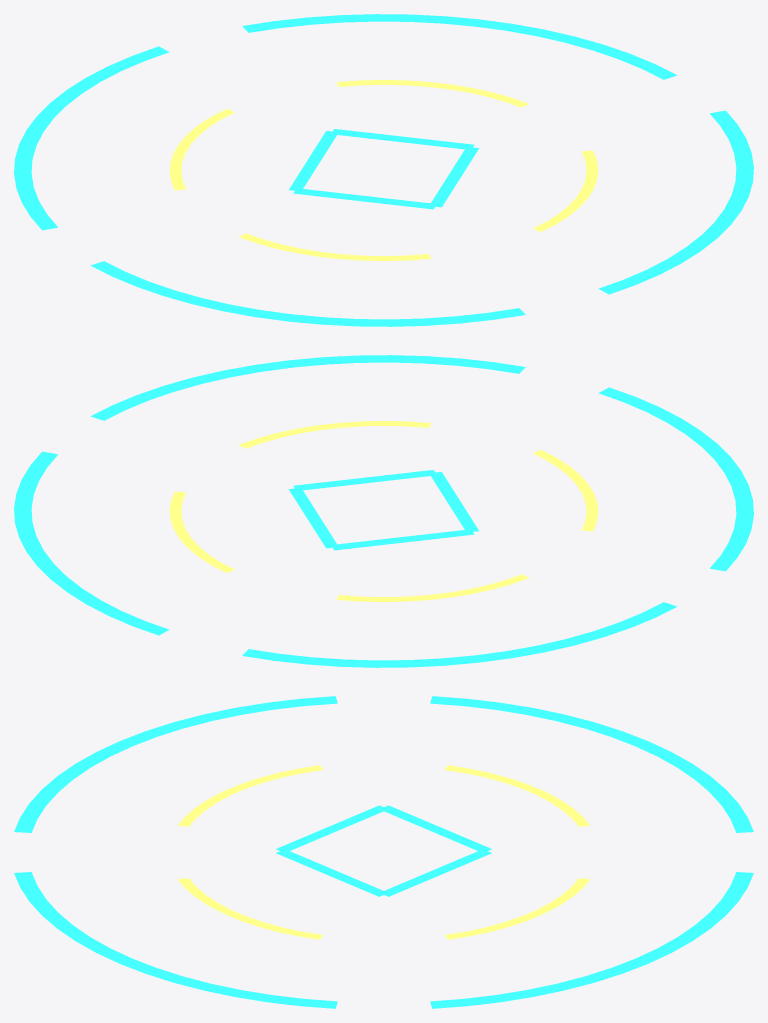
File: intro-floor-glyph.glb
3 renders of one model, top to bottom at view 1: azimuth 30°, elevation 25°; view 2: azimuth 150°, elevation 25°; view 3: azimuth 270°, elevation 25°, orthographic.
Parts seen in each view (by area): view 1: Intro_GlyphArc_0, Intro_GlyphArc_2, Intro_GlyphArc_1, Intro_GlyphArc_3, Intro_GlyphInner_0, Intro_GlyphInner_2, Intro_GlyphInner_1, Intro_GlyphInner_3, Intro_GlyphDiamond_2, Intro_GlyphDiamond_0, Intro_GlyphDiamond_1, Intro_GlyphDiamond_3; view 2: Intro_GlyphArc_1, Intro_GlyphArc_3, Intro_GlyphArc_0, Intro_GlyphArc_2, Intro_GlyphInner_1, Intro_GlyphInner_3, Intro_GlyphInner_0, Intro_GlyphInner_2, Intro_GlyphDiamond_3, Intro_GlyphDiamond_1, Intro_GlyphDiamond_2, Intro_GlyphDiamond_0; view 3: Intro_GlyphArc_0, Intro_GlyphArc_1, Intro_GlyphArc_2, Intro_GlyphArc_3, Intro_GlyphInner_0, Intro_GlyphInner_1, Intro_GlyphInner_2, Intro_GlyphInner_3, Intro_GlyphDiamond_0, Intro_GlyphDiamond_1, Intro_GlyphDiamond_2, Intro_GlyphDiamond_3.
Part boxes in pixels (box(x1,y1,x2,y2)): Intro_GlyphArc_0: box(242, 14, 677, 79); Intro_GlyphArc_2: box(90, 261, 525, 326); Intro_GlyphArc_1: box(14, 46, 169, 230); Intro_GlyphArc_3: box(598, 110, 753, 294); Intro_GlyphInner_0: box(336, 80, 528, 107); Intro_GlyphInner_2: box(239, 233, 431, 260); Intro_GlyphInner_1: box(169, 109, 234, 190); Intro_GlyphInner_3: box(533, 150, 598, 231); Intro_GlyphDiamond_2: box(293, 188, 434, 209); Intro_GlyphDiamond_0: box(331, 129, 474, 149); Intro_GlyphDiamond_1: box(429, 146, 479, 207); Intro_GlyphDiamond_3: box(289, 131, 336, 190); Intro_GlyphArc_1: box(242, 602, 677, 667); Intro_GlyphArc_3: box(90, 355, 525, 420); Intro_GlyphArc_0: box(14, 451, 169, 635); Intro_GlyphArc_2: box(598, 387, 753, 571); Intro_GlyphInner_1: box(336, 574, 528, 601); Intro_GlyphInner_3: box(239, 421, 431, 448); Intro_GlyphInner_0: box(169, 491, 234, 572); Intro_GlyphInner_2: box(533, 450, 598, 531); Intro_GlyphDiamond_3: box(333, 530, 474, 550); Intro_GlyphDiamond_1: box(293, 470, 434, 490); Intro_GlyphDiamond_2: box(429, 472, 478, 532); Intro_GlyphDiamond_0: box(288, 487, 338, 548); Intro_GlyphArc_0: box(430, 872, 753, 1008); Intro_GlyphArc_1: box(430, 696, 753, 832); Intro_GlyphArc_2: box(14, 696, 337, 832); Intro_GlyphArc_3: box(14, 872, 337, 1008); Intro_GlyphInner_0: box(444, 878, 590, 939); Intro_GlyphInner_1: box(444, 765, 590, 826); Intro_GlyphInner_2: box(177, 765, 323, 826); Intro_GlyphInner_3: box(177, 878, 323, 939); Intro_GlyphDiamond_0: box(380, 849, 491, 896); Intro_GlyphDiamond_1: box(276, 849, 386, 896); Intro_GlyphDiamond_2: box(276, 805, 387, 850); Intro_GlyphDiamond_3: box(383, 805, 491, 850).
Size of the model in its own units: 2.5 by 0.005 by 2.5.
